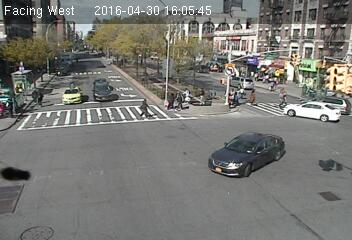neg: (47, 140, 69, 169), (301, 151, 322, 180), (256, 142, 274, 166), (63, 92, 81, 116), (175, 177, 192, 199), (268, 183, 283, 203), (129, 204, 144, 223), (203, 139, 217, 158), (202, 171, 216, 190), (100, 115, 114, 133), (96, 171, 109, 188), (216, 208, 228, 225), (17, 115, 29, 132), (145, 161, 157, 177), (278, 14, 290, 29), (317, 113, 328, 129), (163, 125, 174, 139), (137, 48, 147, 62), (194, 114, 204, 127), (112, 24, 121, 37), (237, 113, 246, 126), (110, 58, 119, 70), (226, 15, 235, 27), (312, 18, 321, 30), (54, 191, 62, 202), (74, 56, 82, 66), (186, 24, 194, 34)
pos: (134, 96, 150, 118), (275, 88, 291, 110), (171, 90, 186, 110), (1, 95, 16, 115), (161, 90, 175, 109), (196, 88, 208, 104), (300, 81, 312, 96), (182, 86, 193, 102), (36, 90, 47, 105), (28, 87, 39, 102), (250, 87, 261, 102), (224, 85, 235, 100)
